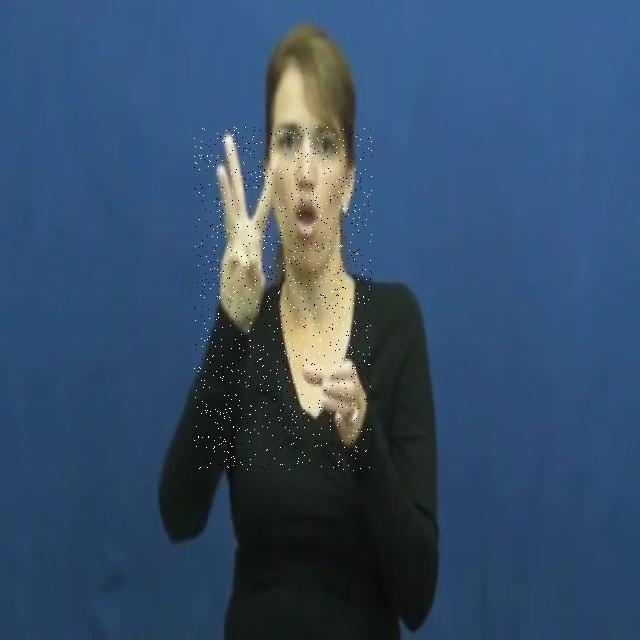straw: (194, 127, 372, 471)
